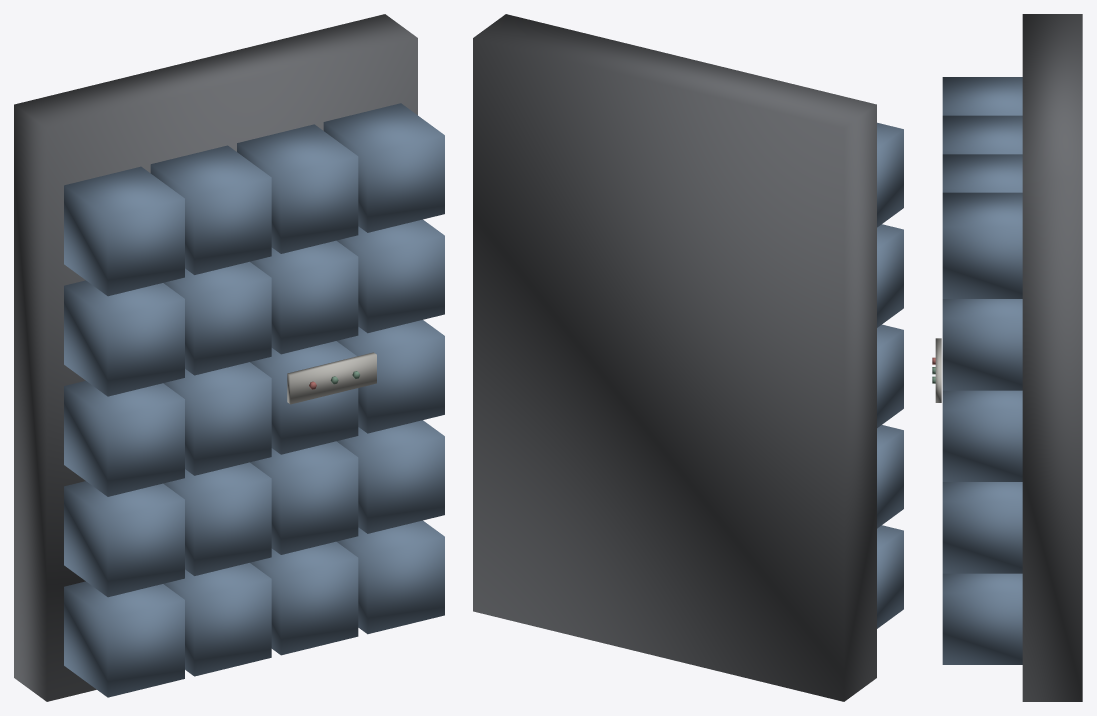
File: parts_bin_rack__compact.glb
3 views of the same model, side by side, from view 1: azimuth 30°, elevation 25°; view 2: azimuth 150°, elevation 25°; view 3: azimuth 270°, elevation 25° (orthographic). The views are drawn at different scales.
Parts seen in each view (by area): view 1: world; view 2: world; view 3: world.
Part boxes in pixels (x1=…): world: x1=14, y1=14, x2=444, y2=701; world: x1=473, y1=14, x2=903, y2=701; world: x1=932, y1=14, x2=1082, y2=701.
Size of the model in its own units: 1.01 by 1.49 by 0.3879.
